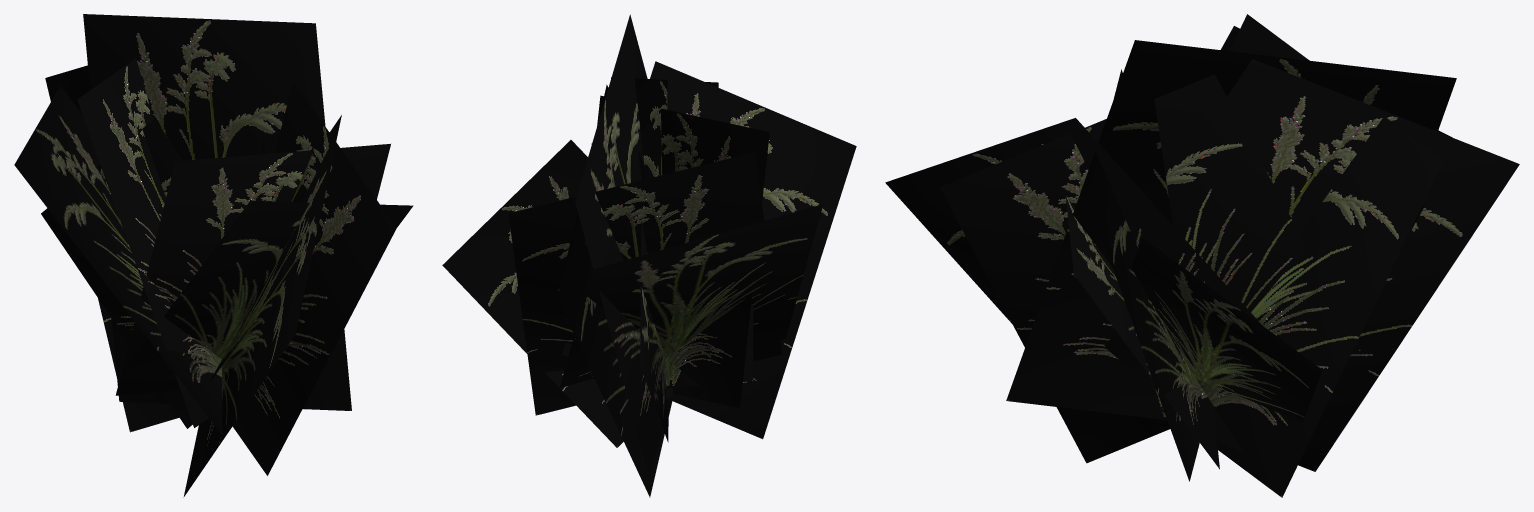
File: Grass_22.fbx
3 views of the same model, side by side, from view 1: azimuth 30°, elevation 25°; view 2: azimuth 150°, elevation 25°; view 3: azimuth 270°, elevation 25° (orthographic). The views are drawn at different scales.
Visible parts, largest first — view 1: Grass_22; view 2: Grass_22; view 3: Grass_22.
Part boxes in pixels (left/top/right/bottom): Grass_22: left=14, top=14, right=413, bottom=497; Grass_22: left=442, top=14, right=856, bottom=497; Grass_22: left=885, top=14, right=1519, bottom=497.
Bounding box in the file's own units: 1501 × 1690 × 1994.
